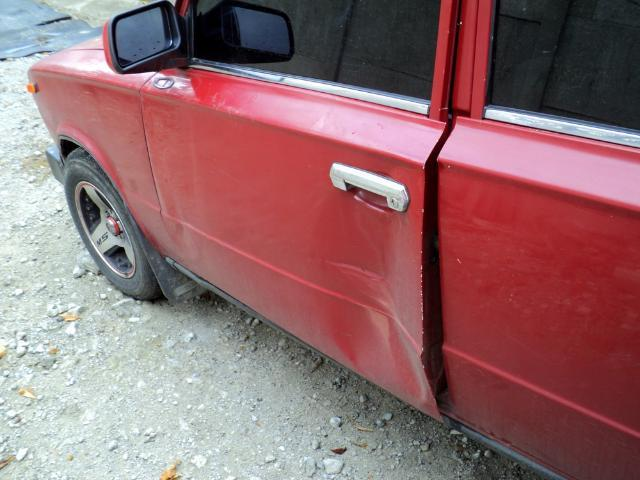dent: (312, 194, 425, 397)
